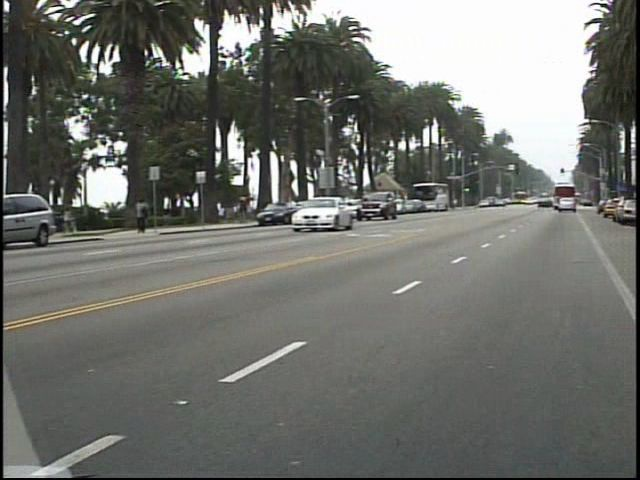person: (140, 194, 162, 235), (241, 189, 261, 224)
